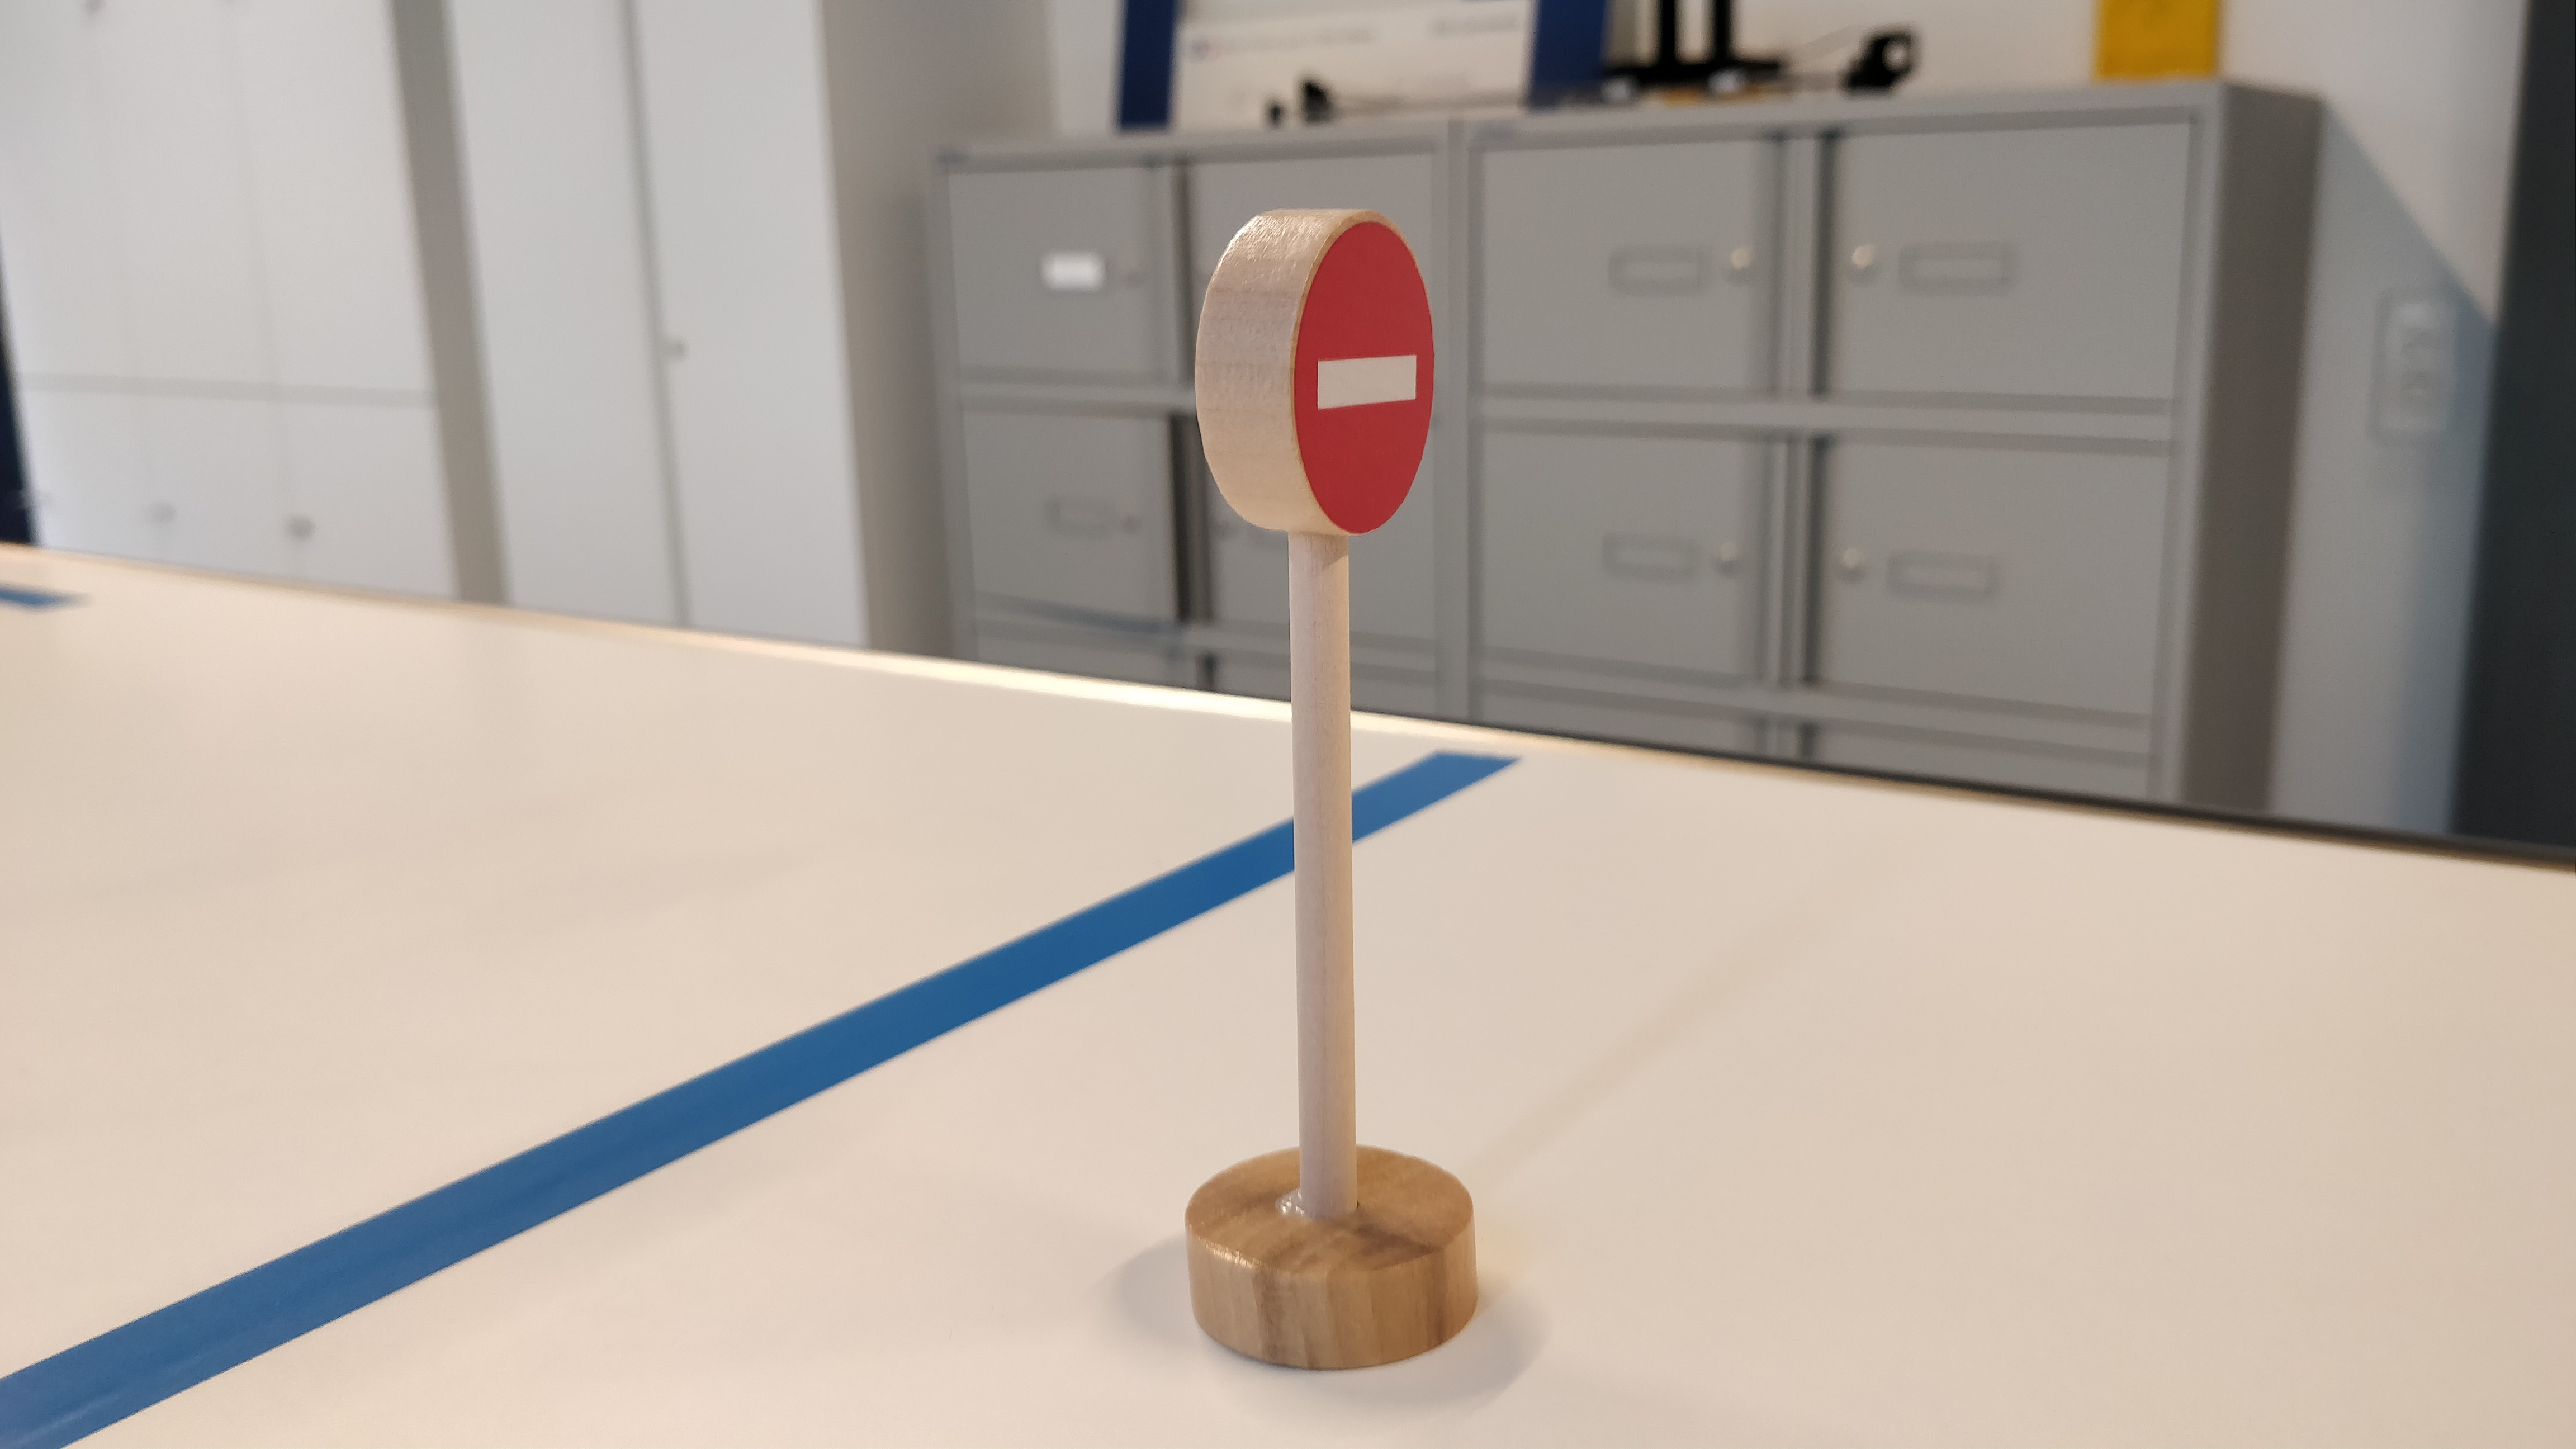Prohibition Sign: (1192, 205, 1441, 543)
